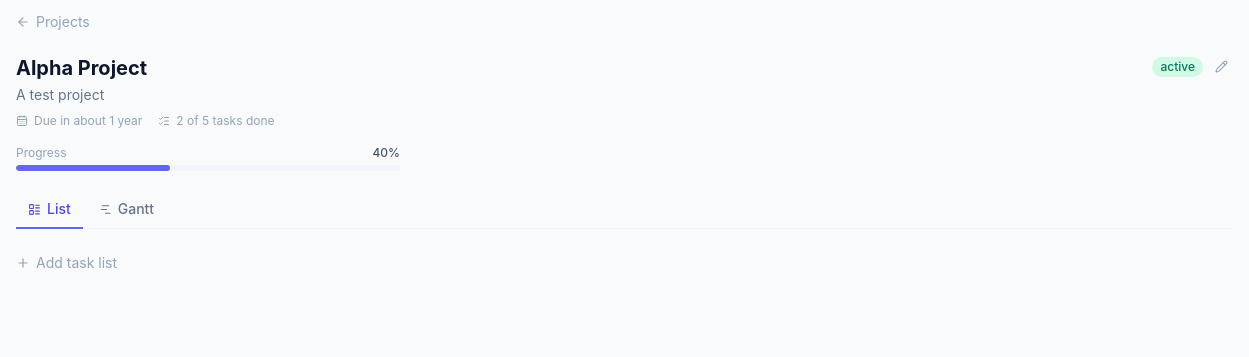
Test case: ProjectDetail › opens the edit form when the pencil button is clicked
Step 1. Click the button titled "Edit project" → [1222, 66], box [1211,56,1232,77]
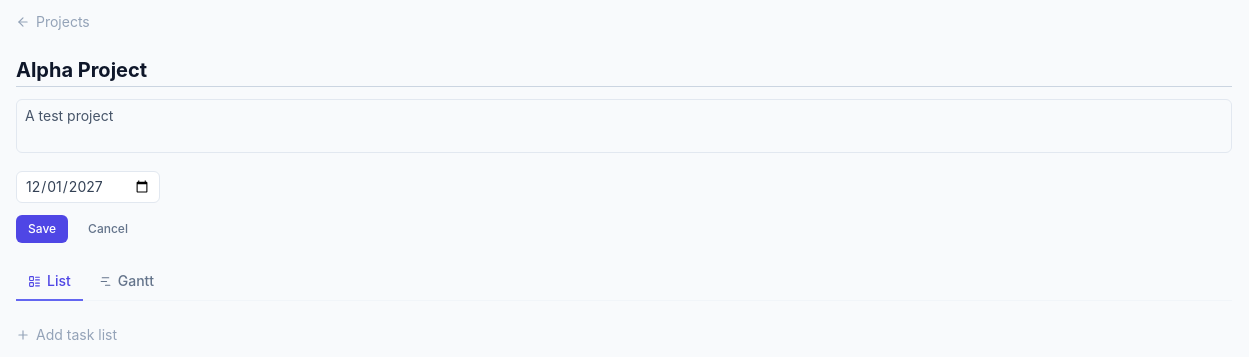
Now the field showing "Alpha Project" is shown, box [16,56,1232,87]
Now the text box showing "A test project" is shown, box [16,99,1232,153]
Now the button "Save" is shown, box [16,215,68,243]
